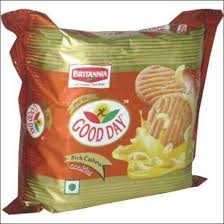gooday-large: (15, 11, 201, 201)
